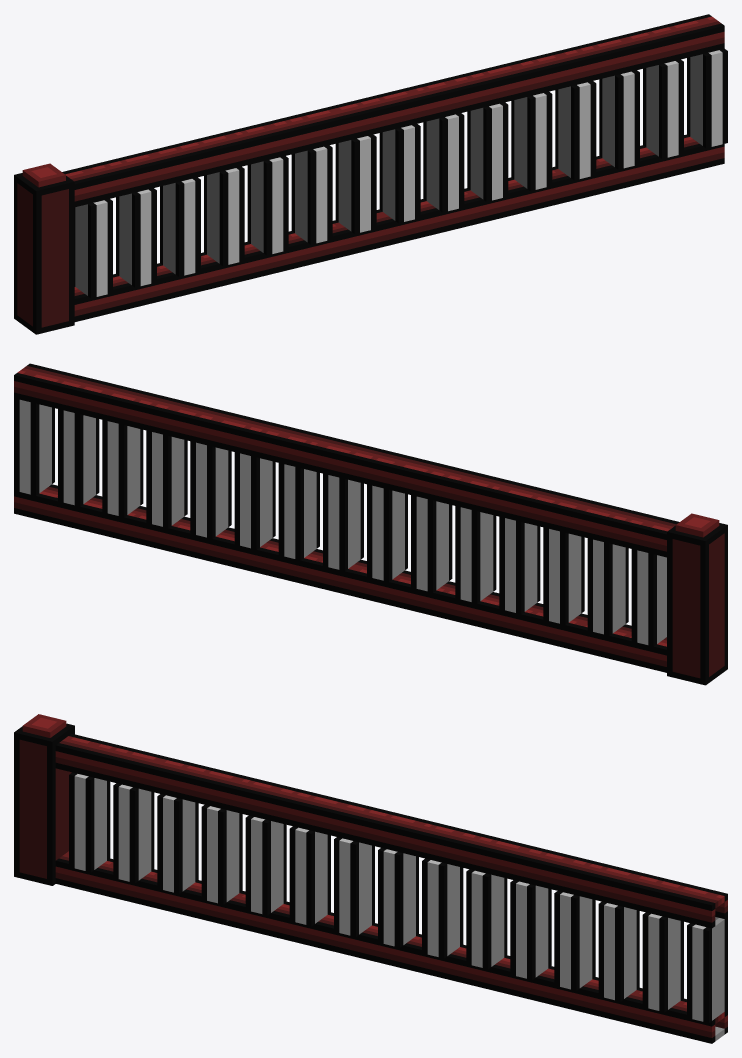
The model's file is PlayerStairsP1.obj.
3 renders of one model, top to bottom at view 1: azimuth 30°, elevation 25°; view 2: azimuth 150°, elevation 25°; view 3: azimuth 330°, elevation 25°, orthographic.
Parts seen in each view (by area): view 1: PlayerStairsP1.002; view 2: PlayerStairsP1.002; view 3: PlayerStairsP1.002.
Part boxes in pixels (x1=…): PlayerStairsP1.002: x1=14, y1=14, x2=727, y2=334; PlayerStairsP1.002: x1=14, y1=363, x2=727, y2=685; PlayerStairsP1.002: x1=14, y1=714, x2=727, y2=1043.
Bounding box in the file's own units: 12.6 × 2.6 × 0.7.
1 material, 1 textured.
